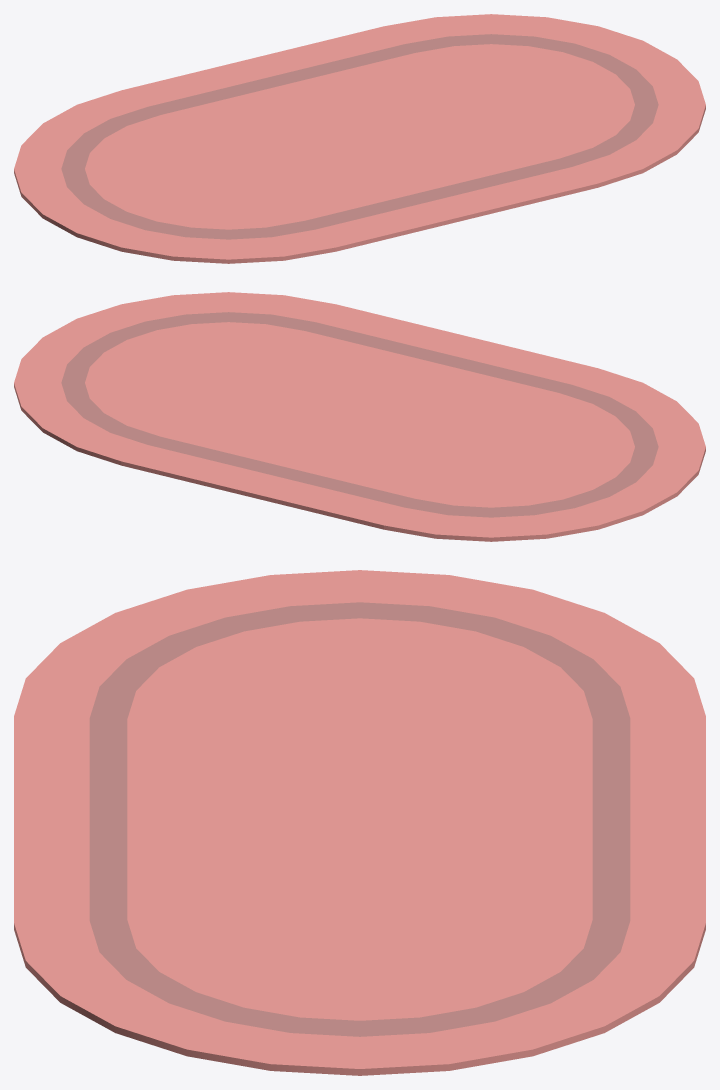
File: rugRounded.glb
The picture shows the model from 3 angles, top to bottom: view 1: azimuth 30°, elevation 25°; view 2: azimuth 150°, elevation 25°; view 3: azimuth 270°, elevation 25°; orthographic projection. The views are drawn at different scales.
Parts seen in each view (by area): view 1: rugRounded(Clone); view 2: rugRounded(Clone); view 3: rugRounded(Clone).
Boxes of the visible parts, <box> form: rugRounded(Clone): <box>14,14,705,263</box>; rugRounded(Clone): <box>14,292,705,541</box>; rugRounded(Clone): <box>14,570,705,1075</box>.
Size of the model in its own units: 3.19 by 0.0203 by 1.87.
2 materials, 2 textured.
